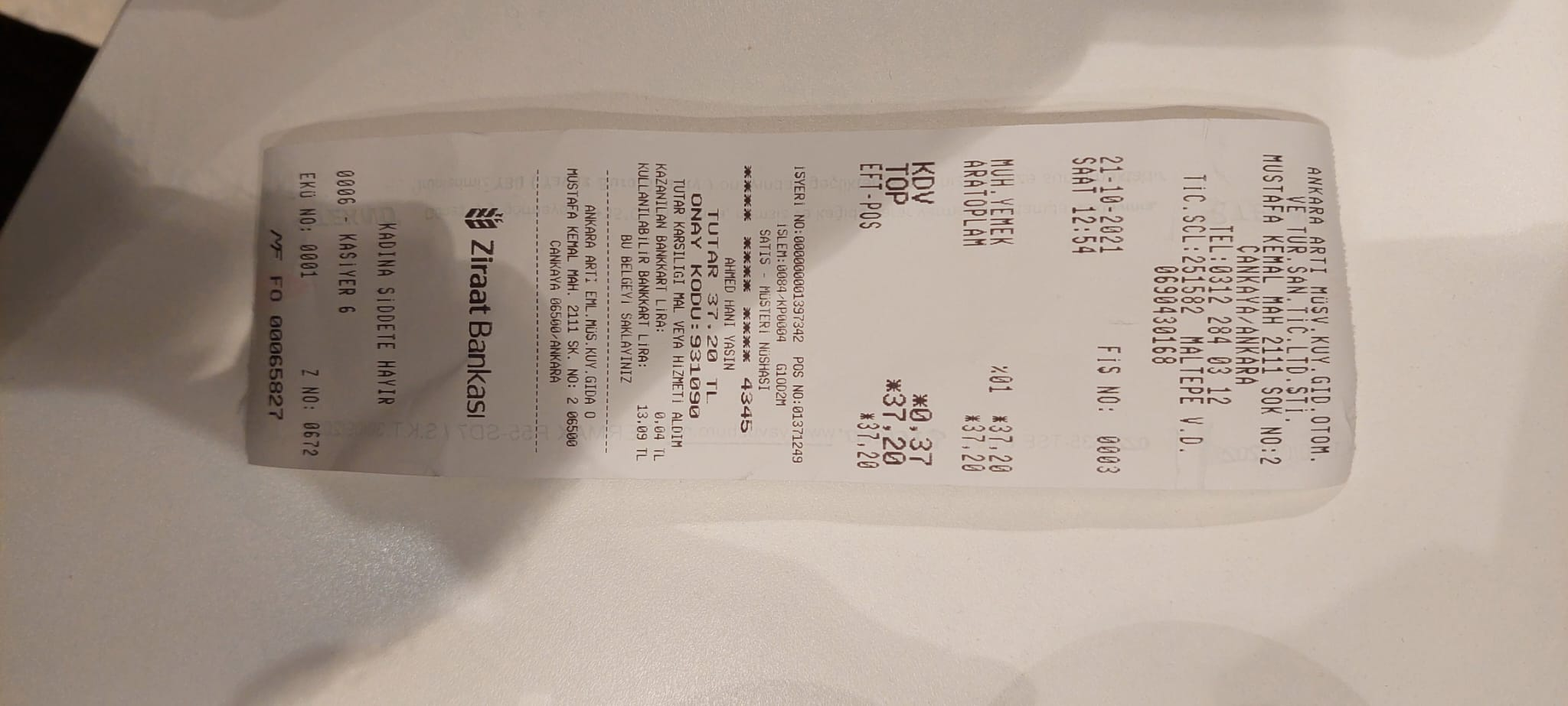date: (1097, 147, 1131, 262)
price: (881, 390, 912, 477)
workplace: (1231, 150, 1335, 481)
